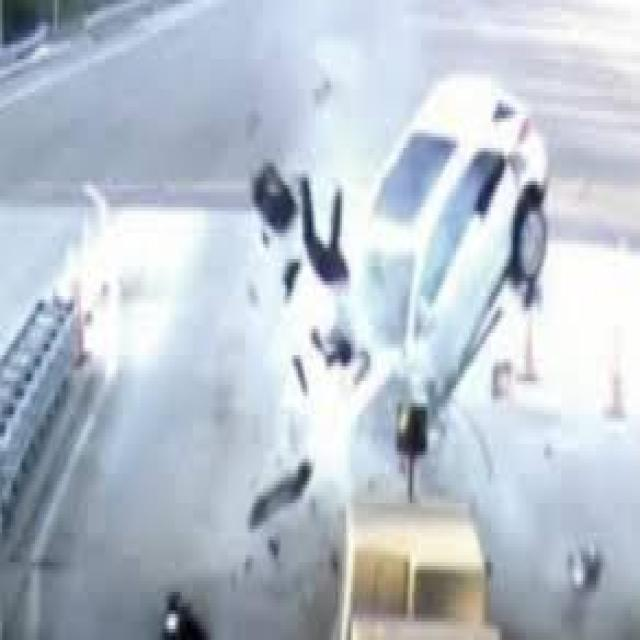severe: (286, 67, 558, 466)
